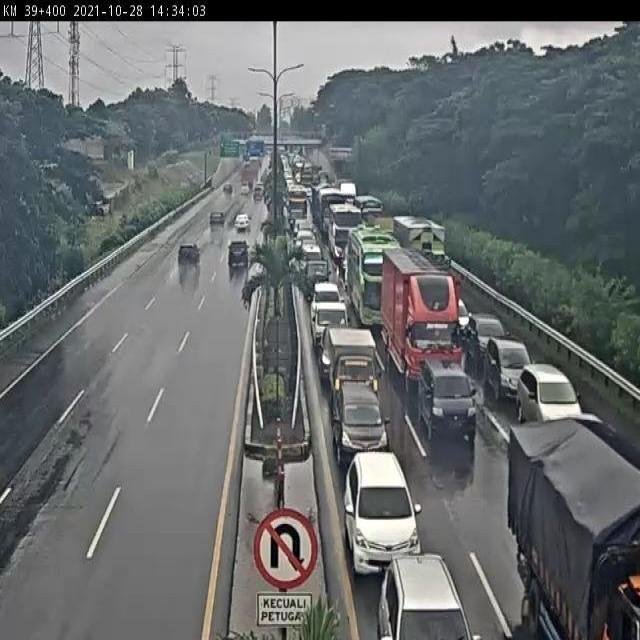bus-l-: (348, 228, 401, 329), (327, 204, 367, 260)
car: (343, 448, 421, 565), (416, 356, 478, 447), (322, 328, 384, 405), (327, 382, 389, 458), (517, 366, 582, 431), (488, 339, 533, 401), (309, 296, 350, 352), (466, 313, 508, 360), (298, 258, 330, 298), (447, 293, 470, 335), (227, 238, 249, 270), (175, 242, 200, 270), (296, 238, 320, 266), (312, 278, 340, 302), (230, 213, 252, 235), (207, 212, 226, 235), (294, 222, 312, 242)
truck-l-: (384, 249, 458, 383), (393, 214, 447, 294)
